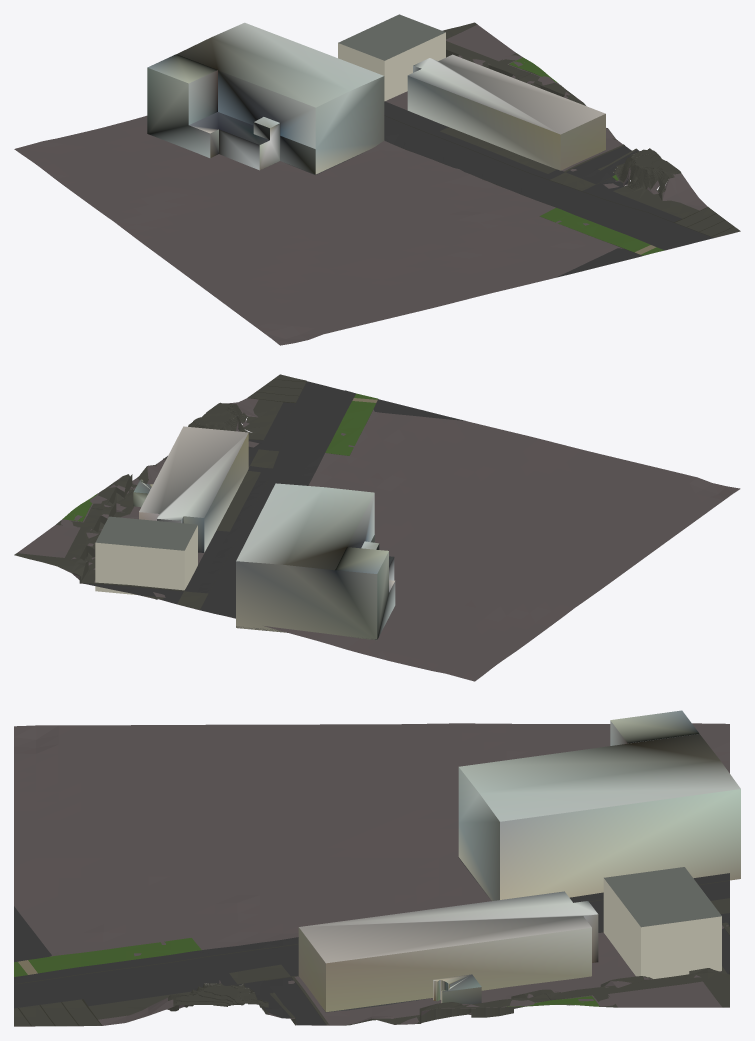
3 renders of one model, top to bottom at view 1: azimuth 30°, elevation 25°; view 2: azimuth 150°, elevation 25°; view 3: azimuth 270°, elevation 25°, orthographic. The views are drawn at different scales.
Parts seen in each view (by area): view 1: c_m10_p12; view 2: c_m10_p12; view 3: c_m10_p12.
Boxes of the visible parts, x1,y1,x2,y2 form: c_m10_p12: [14, 14, 740, 345]; c_m10_p12: [14, 374, 740, 681]; c_m10_p12: [14, 710, 740, 1026].
Size of the model in its own units: 128 by 19.1 by 130.
